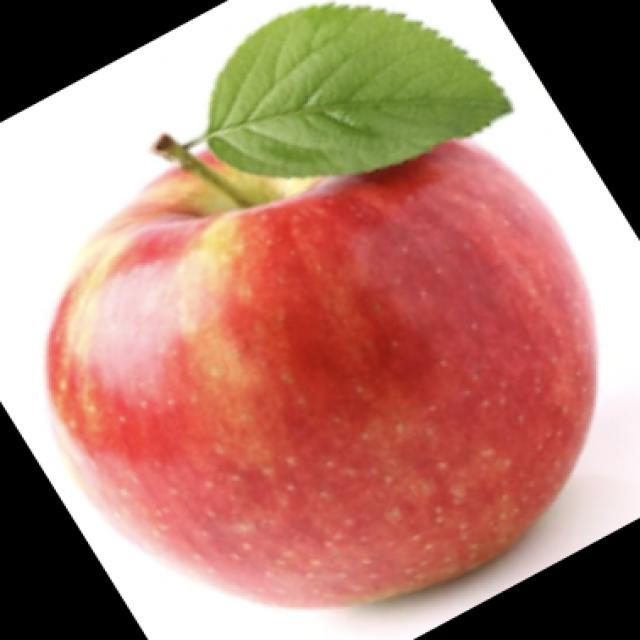Fresh Apple: (45, 105, 577, 608)
